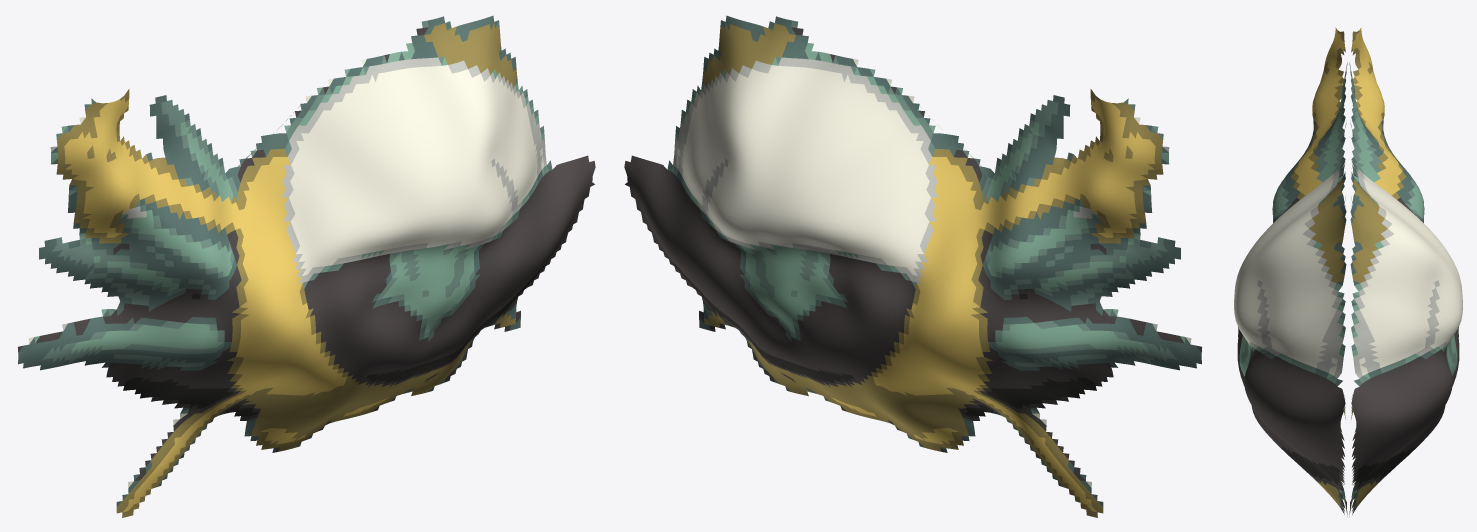
Rendered from crystbeetle.glb.
3 renders of one model, left to right at view 1: azimuth 30°, elevation 25°; view 2: azimuth 150°, elevation 25°; view 3: azimuth 270°, elevation 25°, orthographic. The views are drawn at different scales.
Parts seen in each view (by area): view 1: crystbeetle; view 2: crystbeetle; view 3: crystbeetle.
Part boxes in pixels (x1=…): crystbeetle: x1=17, y1=15, x2=595, y2=517; crystbeetle: x1=624, y1=15, x2=1202, y2=517; crystbeetle: x1=1234, y1=27, x2=1462, y2=516.
Bounding box in the file's own units: 815 × 581 × 305.
